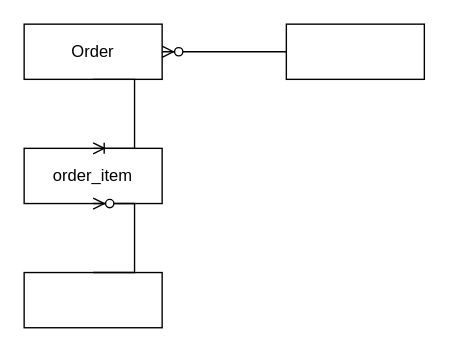
Some shapes in this 449 by 352 pixel diagram are drawn without their labels. Here are the shapes that lost their labels. From the top down, the centre of each, then its label:
At [354,51]: "Customer".
At [92,299]: "Item".
